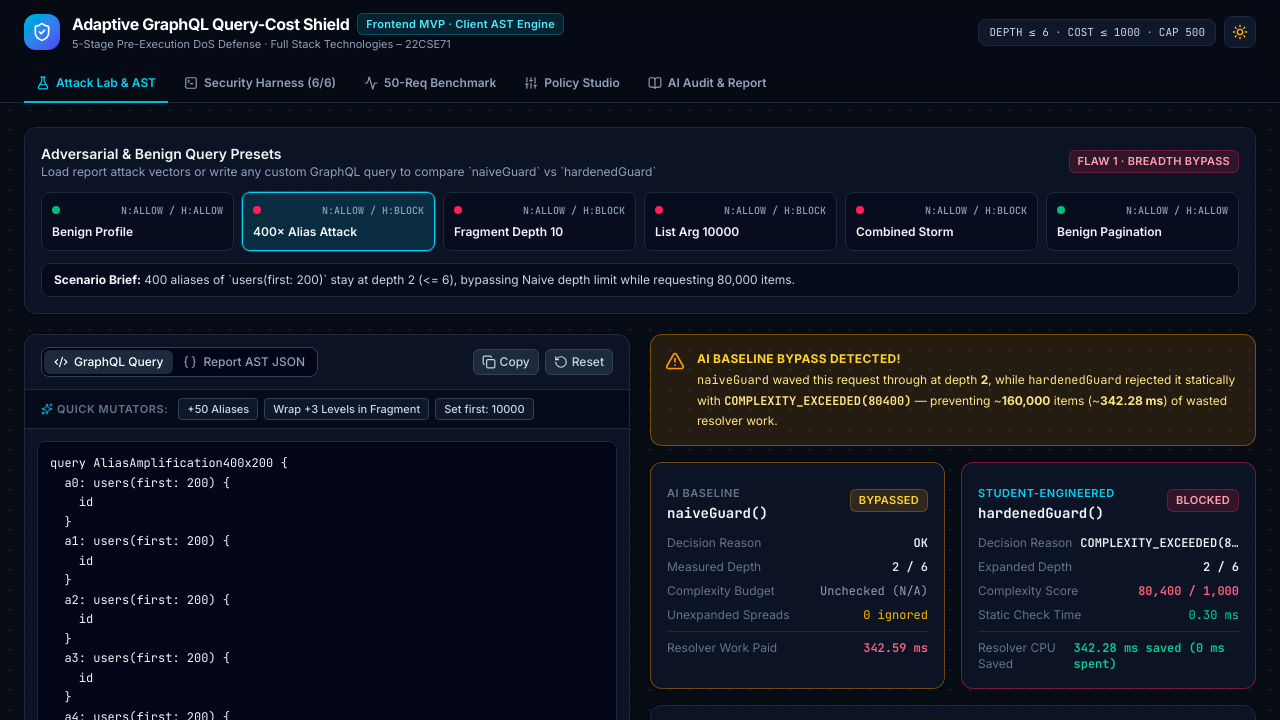
Test: Adaptive GraphQL Query-Cost Shield UI › switches Benchmark view to Live Browser Simulation and filters audit rows
Click the button "50-Req Benchmark" at {"x": 430, "y": 84}, box [352,64,508,102]
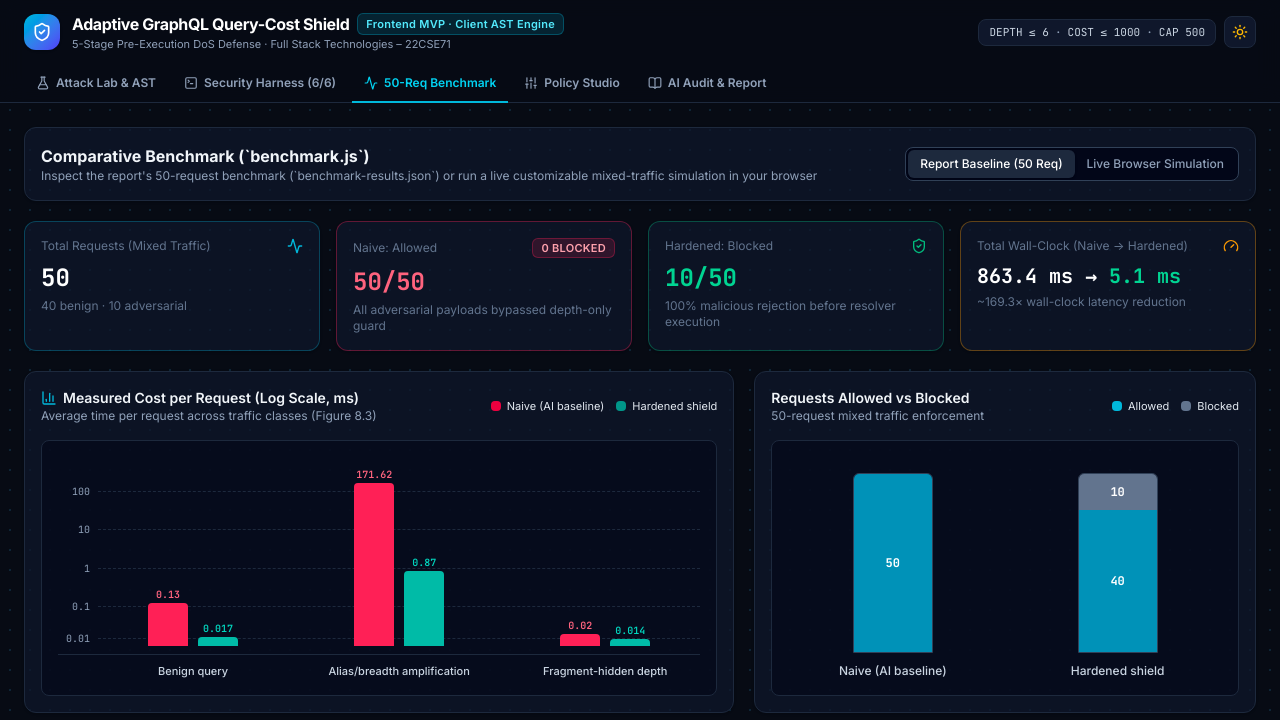
Click the button "Live Browser Simulation" at {"x": 1155, "y": 164}, box [1075,150,1236,178]
(page scrolled)
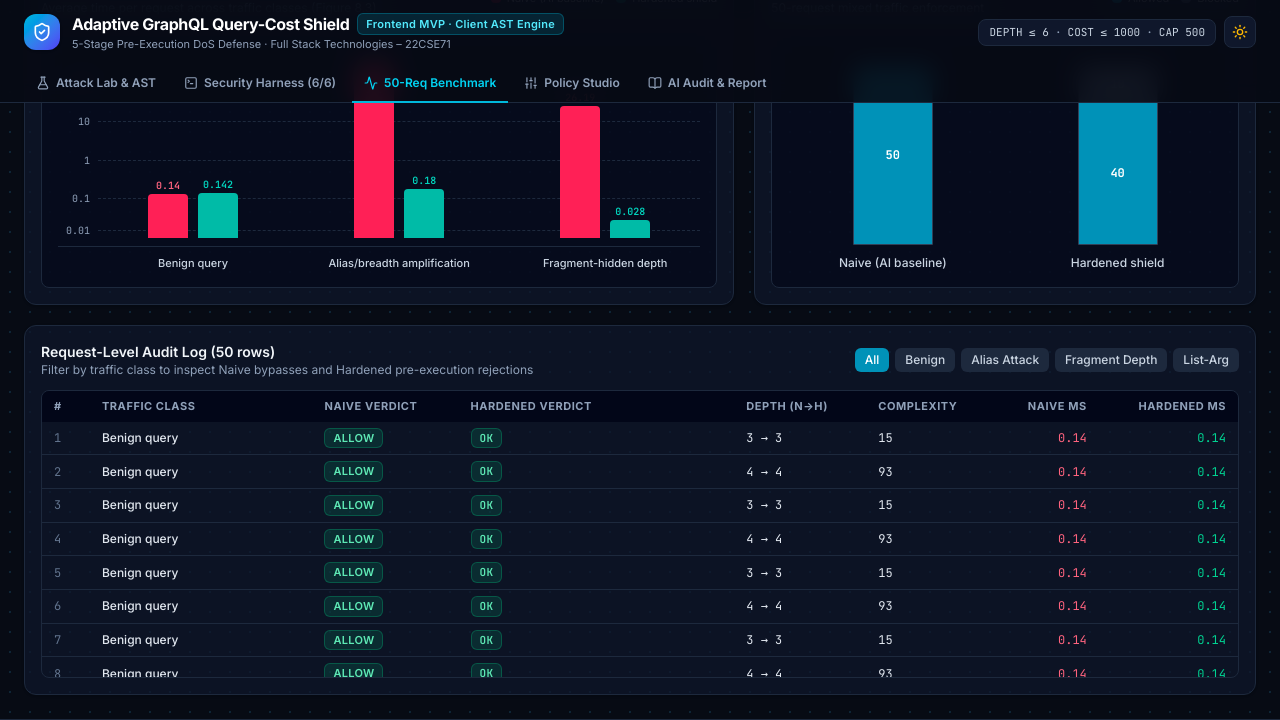
Check: the heading "Request-Level Audit Log (50 rows)" is shown, box [41,343,275,360]
Click the button "Alias Attack" at {"x": 1005, "y": 360}, box [961,348,1049,372]
(page scrolled)
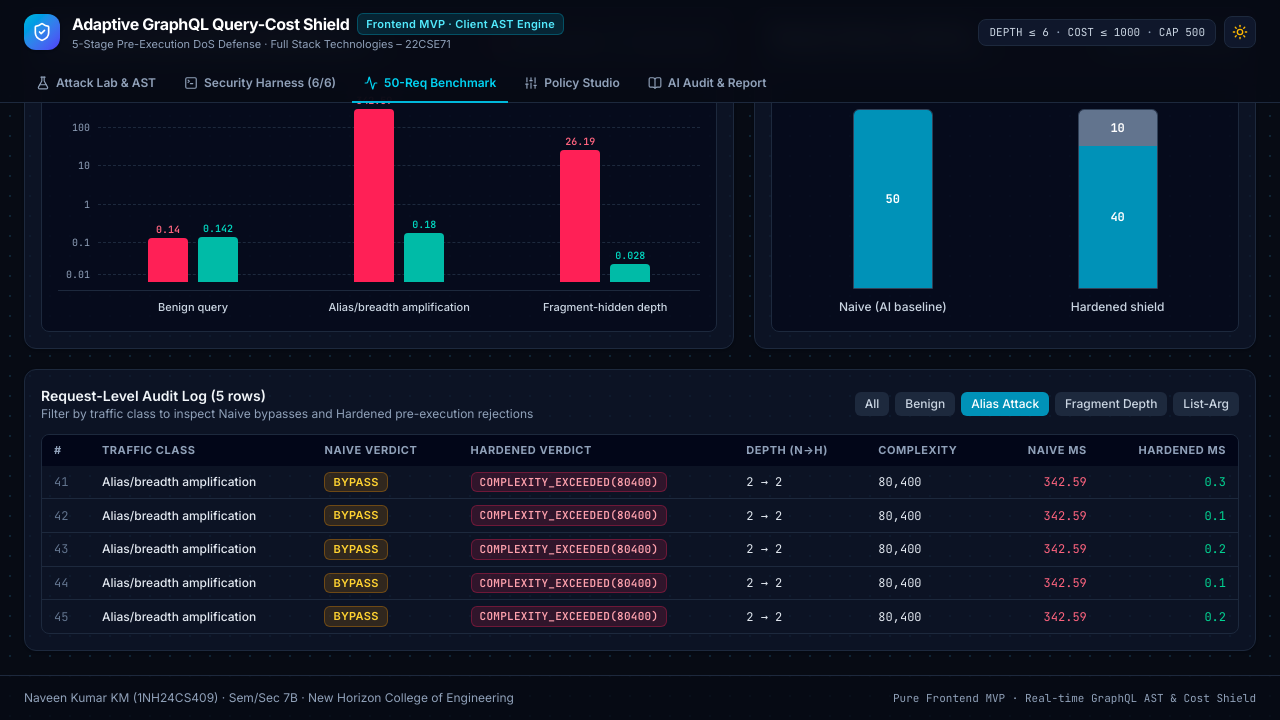
Check: the heading "Request-Level Audit Log (5 rows)" is shown, box [41,387,266,404]
